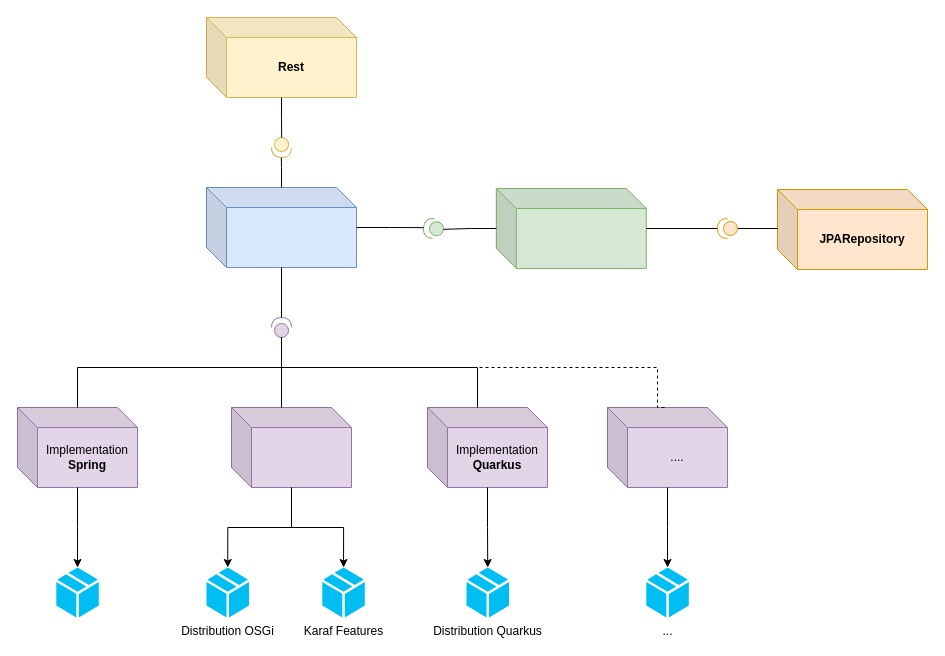
Some shapes in this 945 by 656 pixel diagram are drawn without their labels. The shapes that lost their labels are listed below. From the top down, each one's centre as x and y in pixels, then its label:
At pixel 281 227: "Core".
At pixel 570 228: "Repository".
At pixel 291 447: "Implementation OSGi".
At pixel 77 592: "Distribution Spring".
